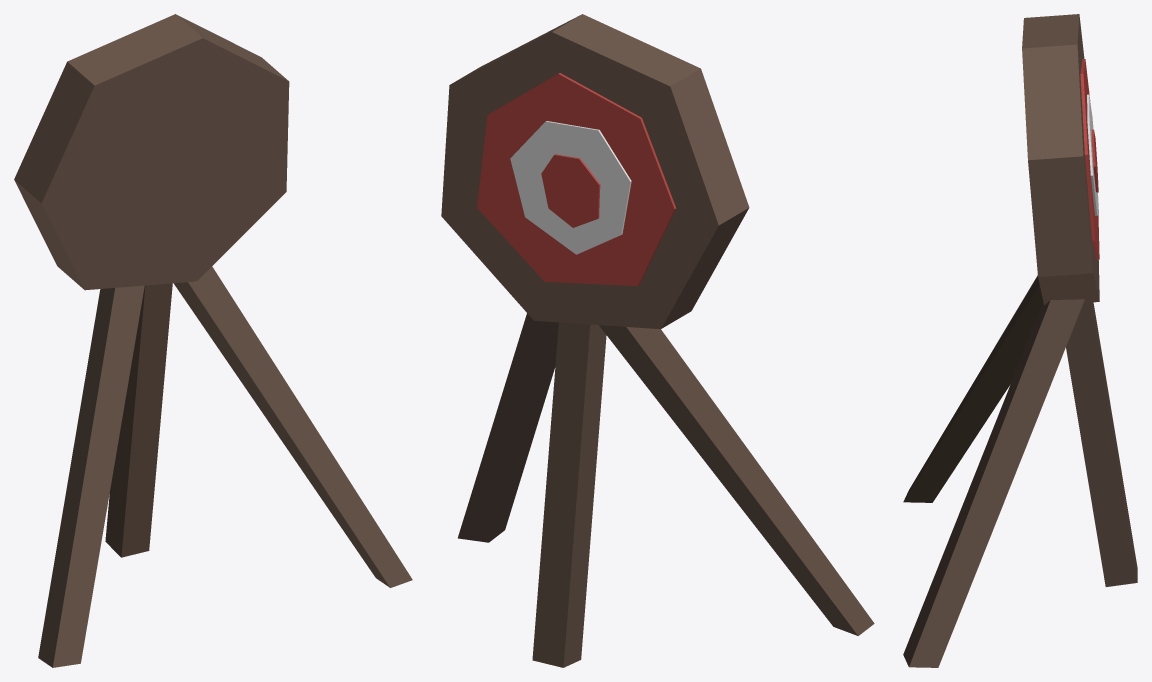
The picture shows the model from 3 angles, left to right: view 1: azimuth 30°, elevation 25°; view 2: azimuth 150°, elevation 25°; view 3: azimuth 270°, elevation 25°; orthographic projection. The views are drawn at different scales.
Parts seen in each view (by area): view 1: Object_2; view 2: Object_2; view 3: Object_2.
Part boxes in pixels (box(x1,y1,x2,y2)): Object_2: box(14, 14, 412, 667); Object_2: box(441, 14, 874, 667); Object_2: box(903, 14, 1137, 667).
Bounding box in the file's own units: 1.29 × 1.87 × 0.7231.
Materials: 1 (1 with a texture image).
